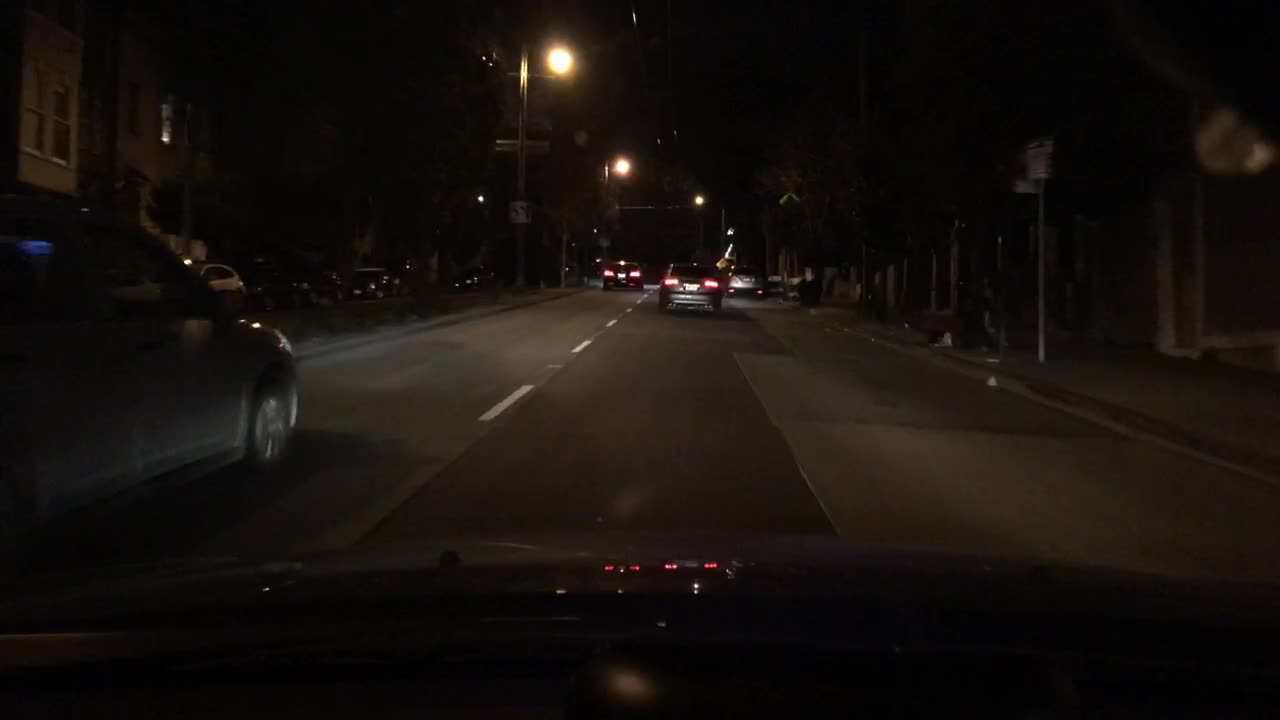car: (0, 180, 302, 562), (656, 256, 724, 312), (197, 261, 247, 303), (252, 279, 313, 312), (722, 264, 769, 298), (600, 256, 647, 290), (349, 265, 387, 301), (310, 272, 347, 304), (385, 263, 414, 297), (552, 263, 586, 288), (441, 270, 478, 292), (473, 265, 507, 283)
traffic sign: (1022, 134, 1056, 179), (1011, 179, 1049, 195), (505, 201, 532, 222)
